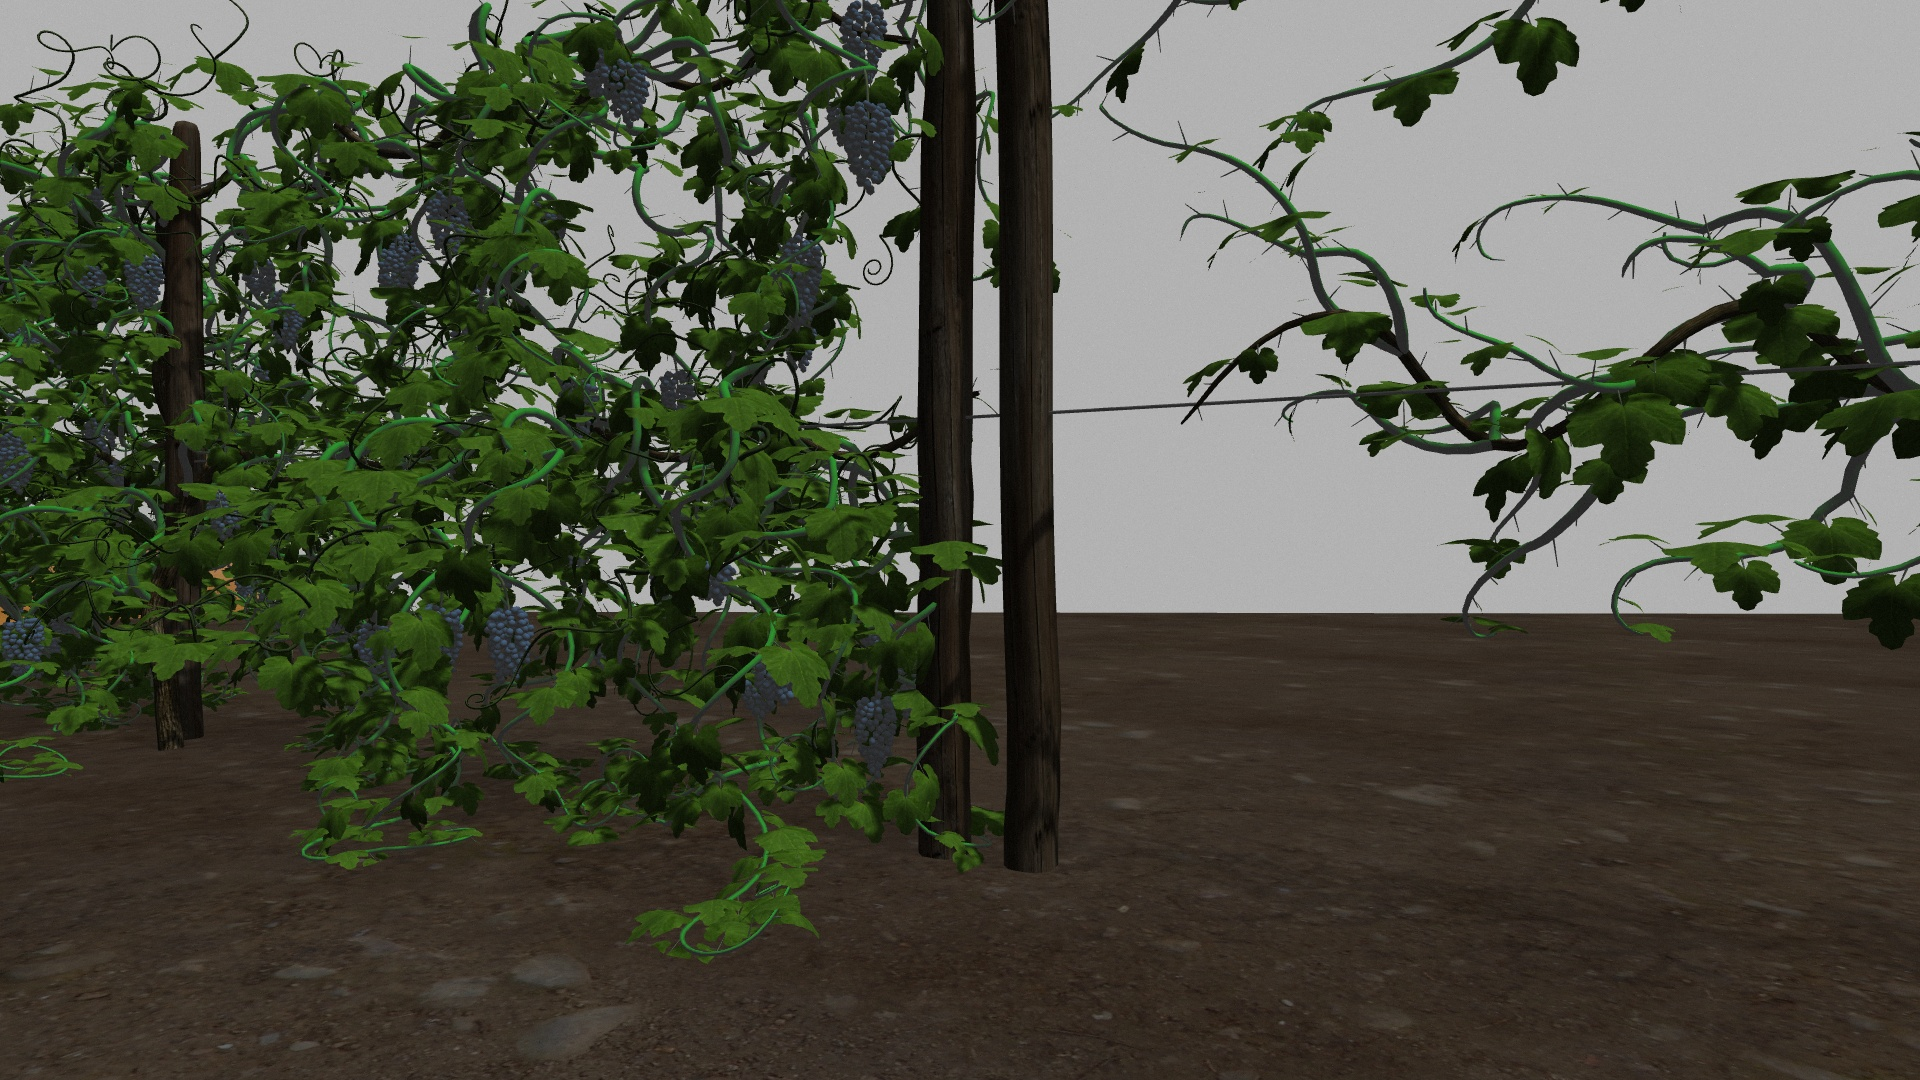grape: (843, 99, 898, 194), (779, 233, 825, 324), (483, 609, 534, 686), (839, 4, 887, 80), (853, 694, 897, 775), (426, 189, 473, 258), (742, 662, 795, 720), (375, 233, 421, 290), (265, 291, 305, 357), (123, 251, 164, 313), (613, 59, 649, 124), (3, 618, 47, 669), (3, 435, 33, 496), (243, 255, 277, 303), (659, 369, 696, 414), (582, 54, 618, 99)
